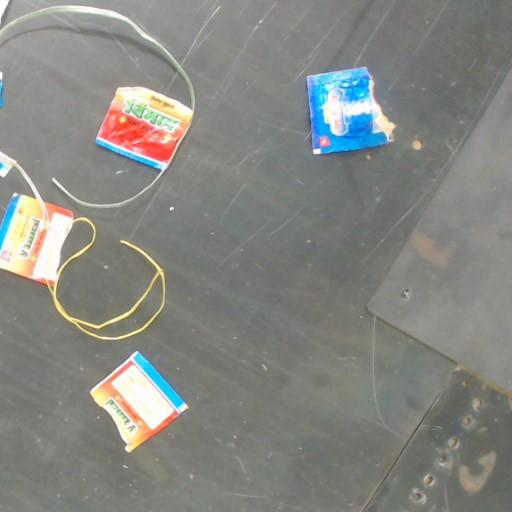conveyor belt: (0, 0, 511, 511)
packet: (82, 351, 197, 459), (0, 152, 72, 286), (96, 87, 193, 175), (307, 67, 394, 153)
thread: (0, 5, 195, 121), (46, 218, 165, 340), (52, 168, 164, 207), (0, 151, 46, 216), (169, 128, 189, 161)
